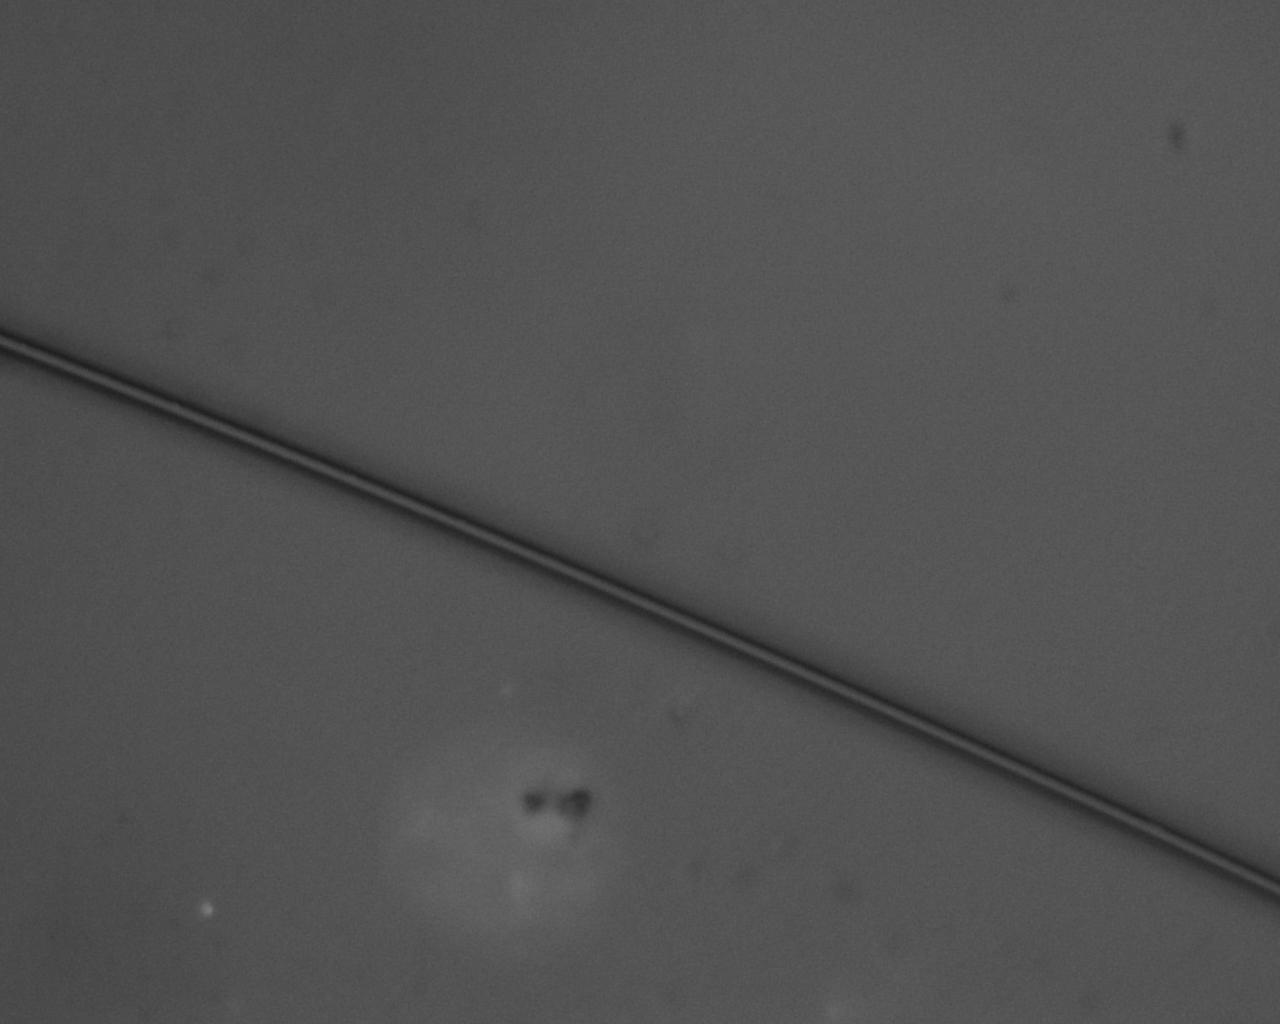fiber: (0, 329, 1280, 905)
